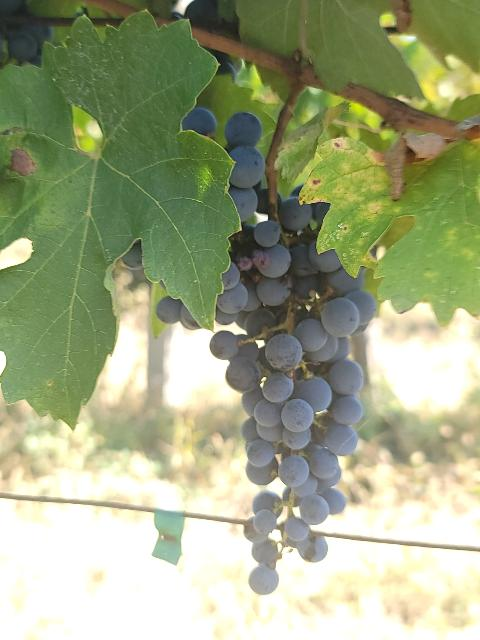grapes: (210, 195, 376, 594)
